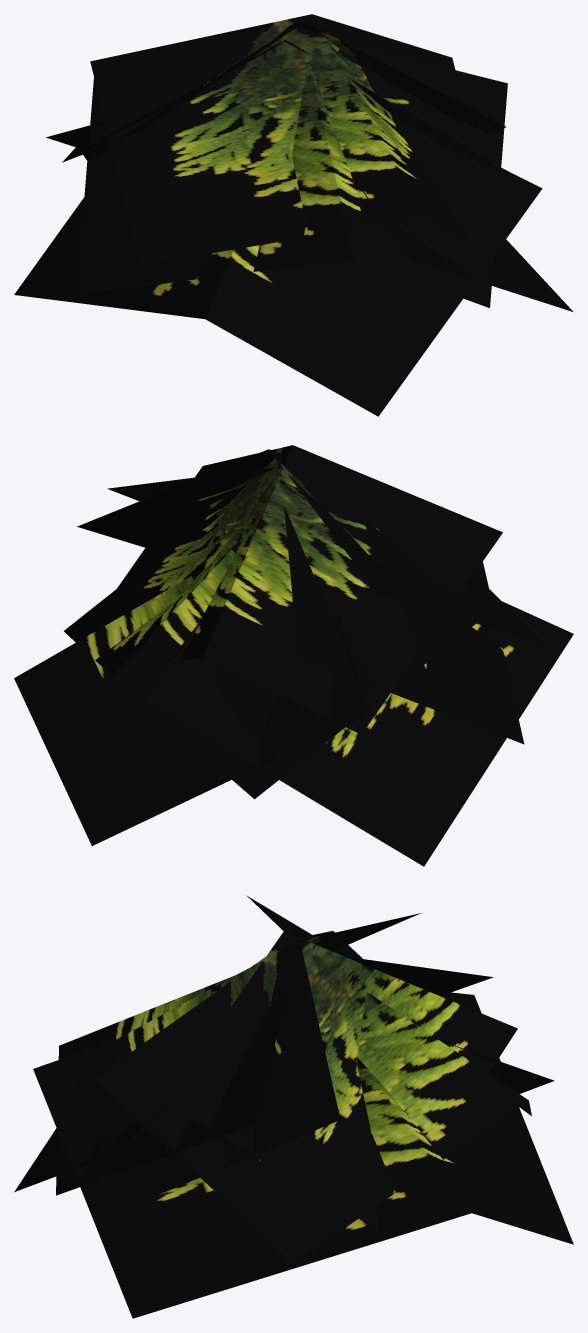
File: Bush1.fbx
3 renders of one model, top to bottom at view 1: azimuth 30°, elevation 25°; view 2: azimuth 150°, elevation 25°; view 3: azimuth 270°, elevation 25°, orthographic. The views are drawn at different scales.
Parts seen in each view (by area): view 1: Bush1; view 2: Bush1; view 3: Bush1.
Part boxes in pixels (x1=…): Bush1: x1=14, y1=14, x2=573, y2=416; Bush1: x1=14, y1=445, x2=573, y2=866; Bush1: x1=14, y1=895, x2=573, y2=1318.
Size of the model in its own units: 216 by 135 by 236.
